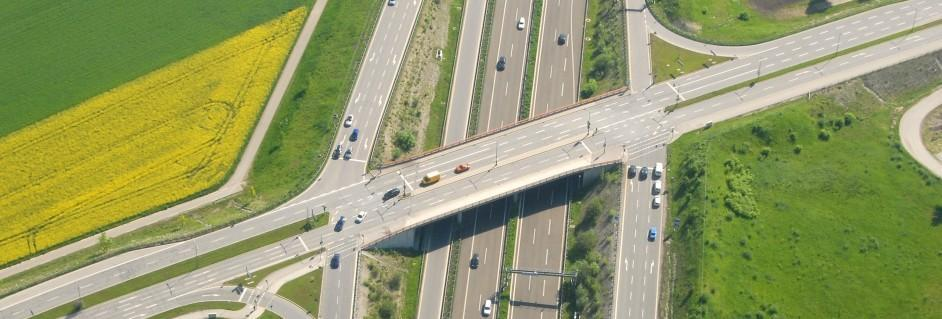car: (447, 159, 476, 179), (377, 184, 404, 205), (467, 253, 487, 278), (493, 52, 511, 78), (330, 250, 347, 274), (479, 295, 496, 319), (420, 171, 442, 189), (555, 28, 572, 50), (331, 215, 349, 234), (644, 227, 661, 247), (511, 14, 530, 31), (652, 160, 667, 181), (638, 163, 652, 185), (352, 210, 371, 226), (650, 180, 665, 199), (342, 112, 357, 129), (342, 144, 356, 162), (330, 142, 343, 161), (650, 197, 665, 213), (628, 162, 639, 179), (351, 130, 362, 146)
